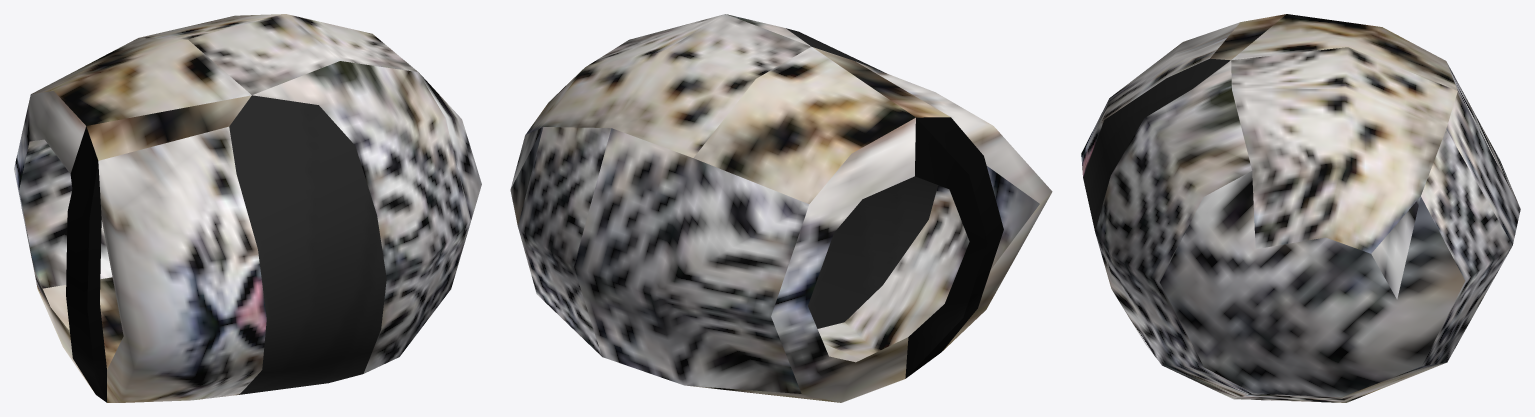
Rendered from CrashHelmetFullSnowLeopard.fbx.
The picture shows the model from 3 angles, left to right: view 1: azimuth 30°, elevation 25°; view 2: azimuth 150°, elevation 25°; view 3: azimuth 270°, elevation 25°; orthographic projection. The views are drawn at different scales.
Parts seen in each view (by area): view 1: M_CrashHelmetFULL.025; view 2: M_CrashHelmetFULL.025; view 3: M_CrashHelmetFULL.025.
Part boxes in pixels (bbox=[...]): M_CrashHelmetFULL.025: bbox=[14, 14, 481, 402]; M_CrashHelmetFULL.025: bbox=[510, 14, 1052, 402]; M_CrashHelmetFULL.025: bbox=[1081, 14, 1520, 402].
Bounding box in the file's own units: 0.1953 × 0.144 × 0.1836.
